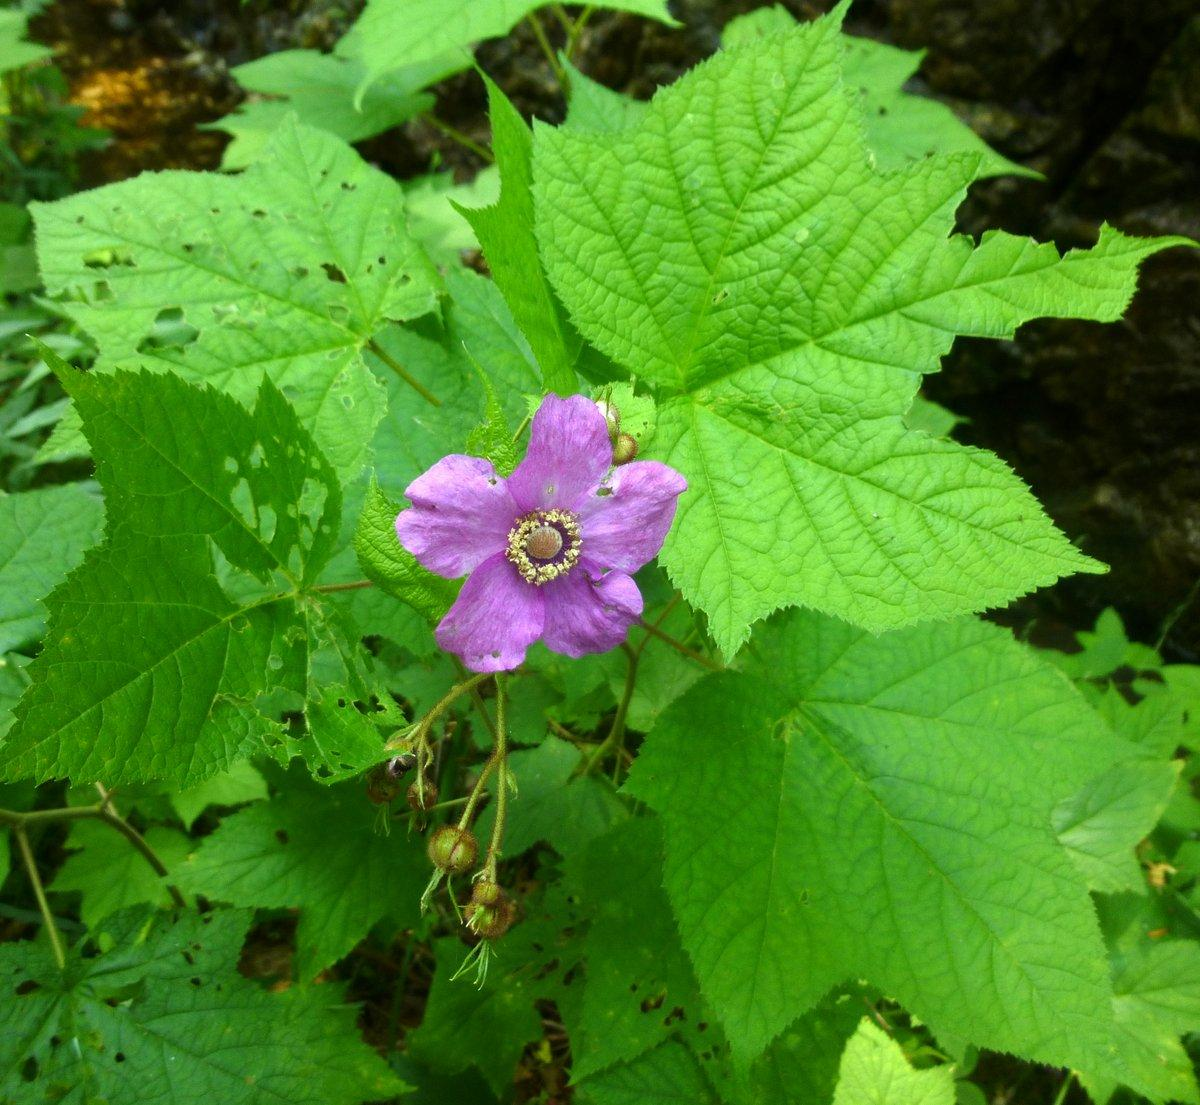Raspberry leaf: (523, 32, 1200, 655), (639, 612, 1193, 1105), (1, 331, 425, 813)
